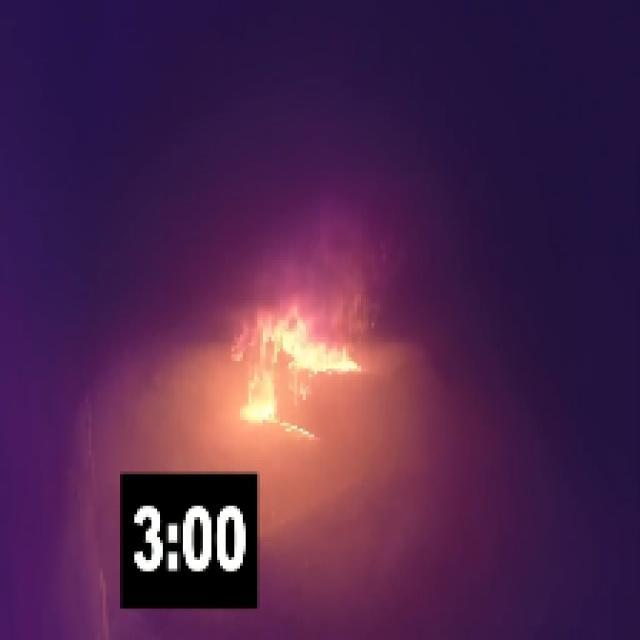Fire: (238, 306, 366, 428)
Smoke: (211, 152, 420, 298)
